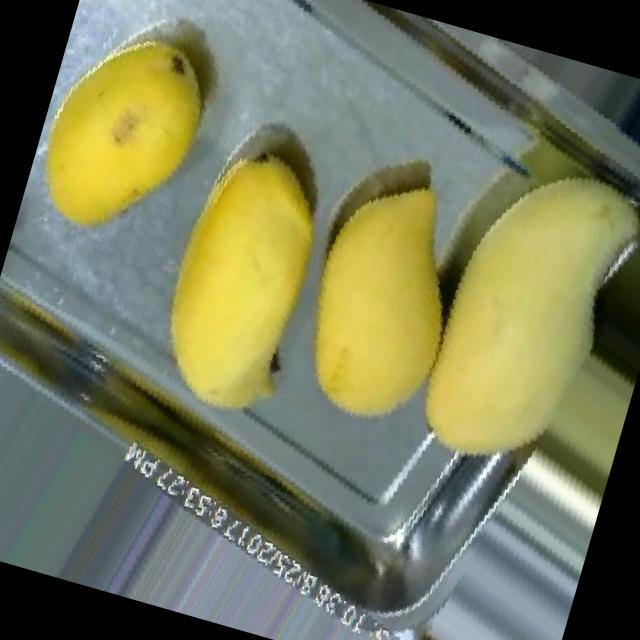fruit: (287, 75, 640, 529), (73, 89, 396, 466), (9, 0, 266, 294)
